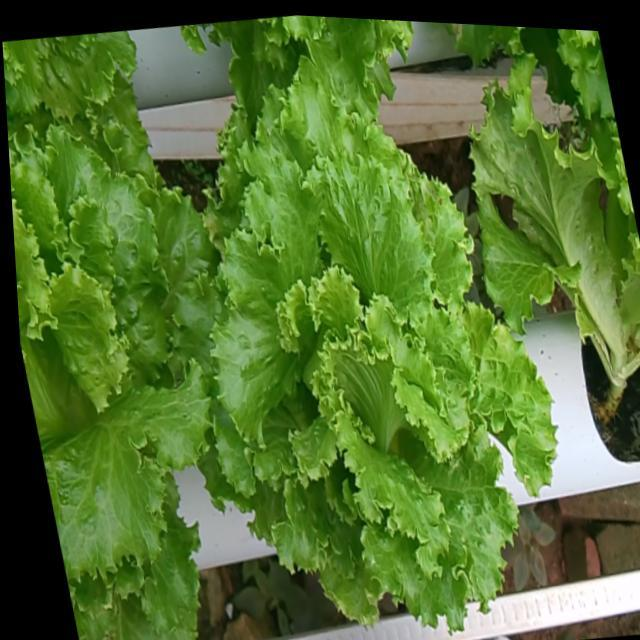Mature: (202, 95, 555, 640), (11, 139, 217, 601)
